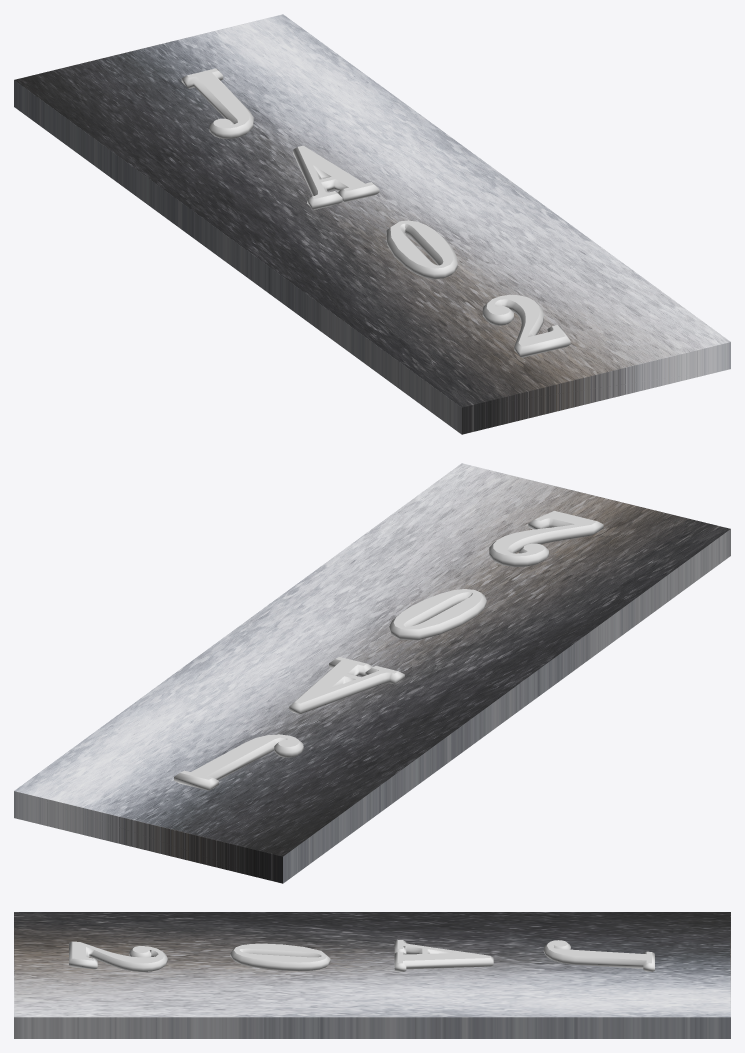
The model's file is Placa1 1.fbx.
3 views of the same model, one above another, from view 1: azimuth 30°, elevation 25°; view 2: azimuth 150°, elevation 25°; view 3: azimuth 270°, elevation 25° (orthographic). The views are drawn at different scales.
Parts seen in each view (by area): view 1: Placacasa1.001; view 2: Placacasa1.001; view 3: Placacasa1.001.
Part boxes in pixels (x1,y1,x2,y2): Placacasa1.001: (14,14,730,434); Placacasa1.001: (14,463,730,883); Placacasa1.001: (14,912,730,1038).
Size of the model in its own units: 153 by 20.35 by 440.
